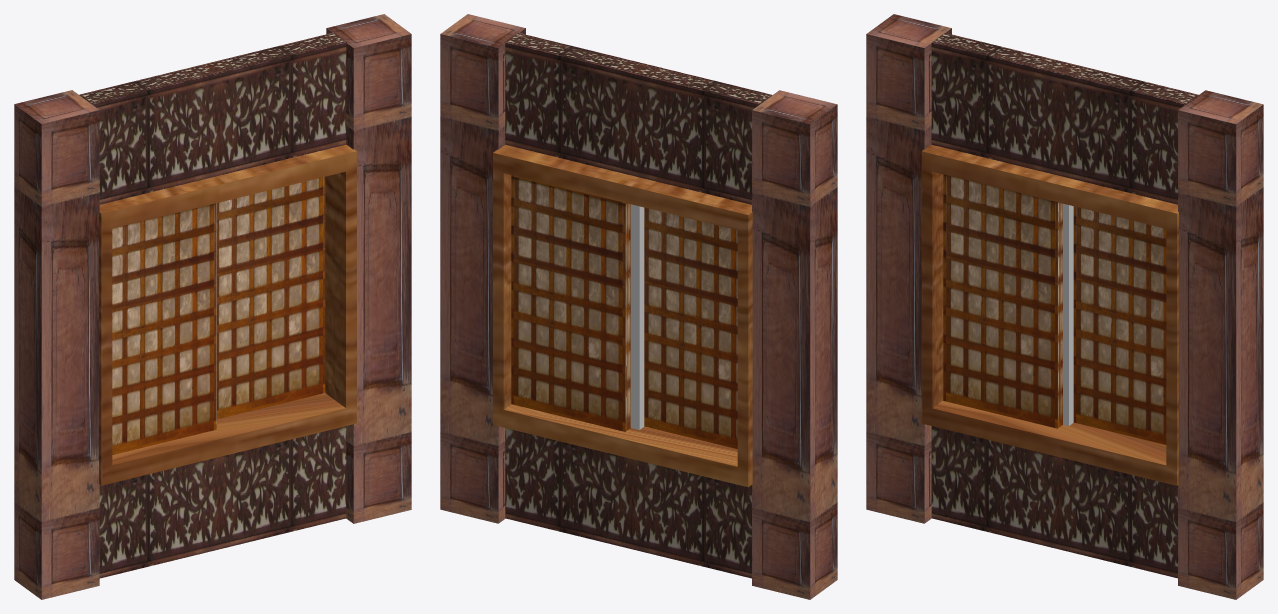
File: wood_wall.fbx
3 views of the same model, side by side, from view 1: azimuth 30°, elevation 25°; view 2: azimuth 150°, elevation 25°; view 3: azimuth 330°, elevation 25° (orthographic).
Visible parts, largest first — view 1: wood_wall.002, Cube.010, Cube.009, window_frame.004, window.009, window.010, Cube.011; view 2: wood_wall.002, Cube.010, Cube.009, window.010, window_frame.004, Cube.011, window.009, Cube.012; view 3: Cube.010, wood_wall.002, Cube.009, window.009, window_frame.004, Cube.011, window.010, Cube.012.
Boxes of the visible parts, bbox=[...] form: wood_wall.002: bbox=[14, 90, 99, 599]; Cube.010: bbox=[326, 14, 411, 523]; Cube.009: bbox=[79, 32, 346, 204]; window_frame.004: bbox=[99, 144, 356, 485]; window.009: bbox=[112, 203, 216, 454]; window.010: bbox=[217, 177, 325, 419]; Cube.011: bbox=[99, 426, 346, 578]; wood_wall.002: bbox=[752, 90, 837, 599]; Cube.010: bbox=[440, 14, 525, 523]; Cube.009: bbox=[505, 33, 772, 204]; window.010: bbox=[511, 175, 630, 431]; window_frame.004: bbox=[493, 144, 752, 487]; Cube.011: bbox=[505, 428, 751, 578]; window.009: bbox=[644, 207, 737, 448]; Cube.012: bbox=[630, 204, 644, 429]; Cube.010: bbox=[1178, 90, 1263, 599]; wood_wall.002: bbox=[866, 14, 951, 523]; Cube.009: bbox=[931, 33, 1198, 204]; window.009: bbox=[943, 174, 1062, 428]; window_frame.004: bbox=[921, 144, 1178, 485]; Cube.011: bbox=[931, 426, 1177, 578]; window.010: bbox=[1073, 206, 1166, 444]; Cube.012: bbox=[1063, 203, 1073, 425].
Size of the model in its own units: 255 by 314 by 40.6.
7 materials, 7 textured.
